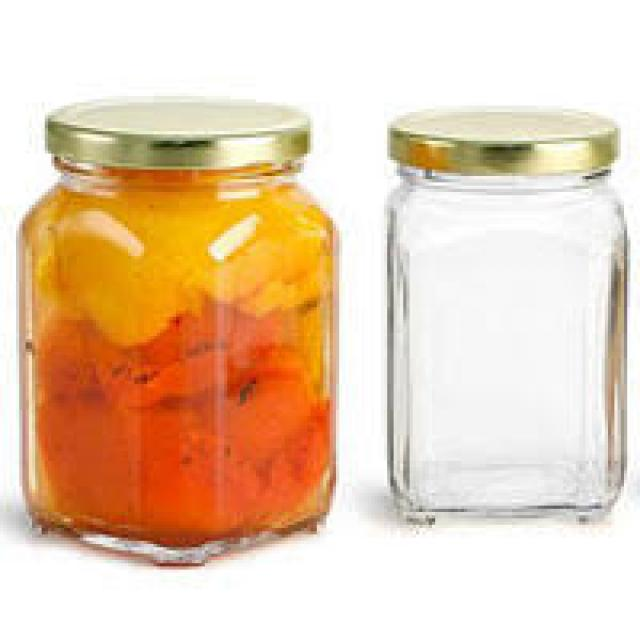organic waste: (118, 407, 250, 538), (51, 202, 170, 339), (35, 384, 138, 528), (198, 202, 320, 307), (204, 346, 314, 448), (246, 394, 326, 508), (154, 301, 282, 355), (99, 332, 202, 393), (32, 317, 99, 403), (29, 192, 70, 304)
